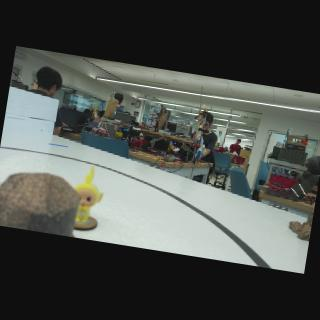teletubby: (74, 167, 103, 223)
